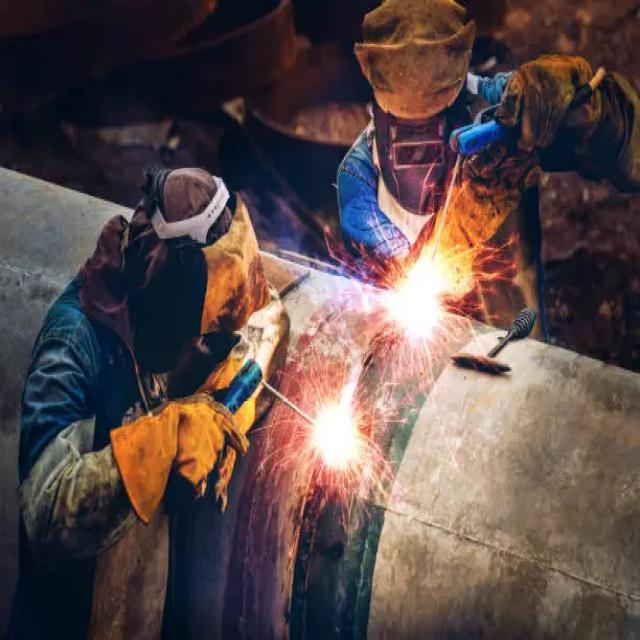with_helmet: (131, 156, 283, 411), (348, 0, 482, 220)
